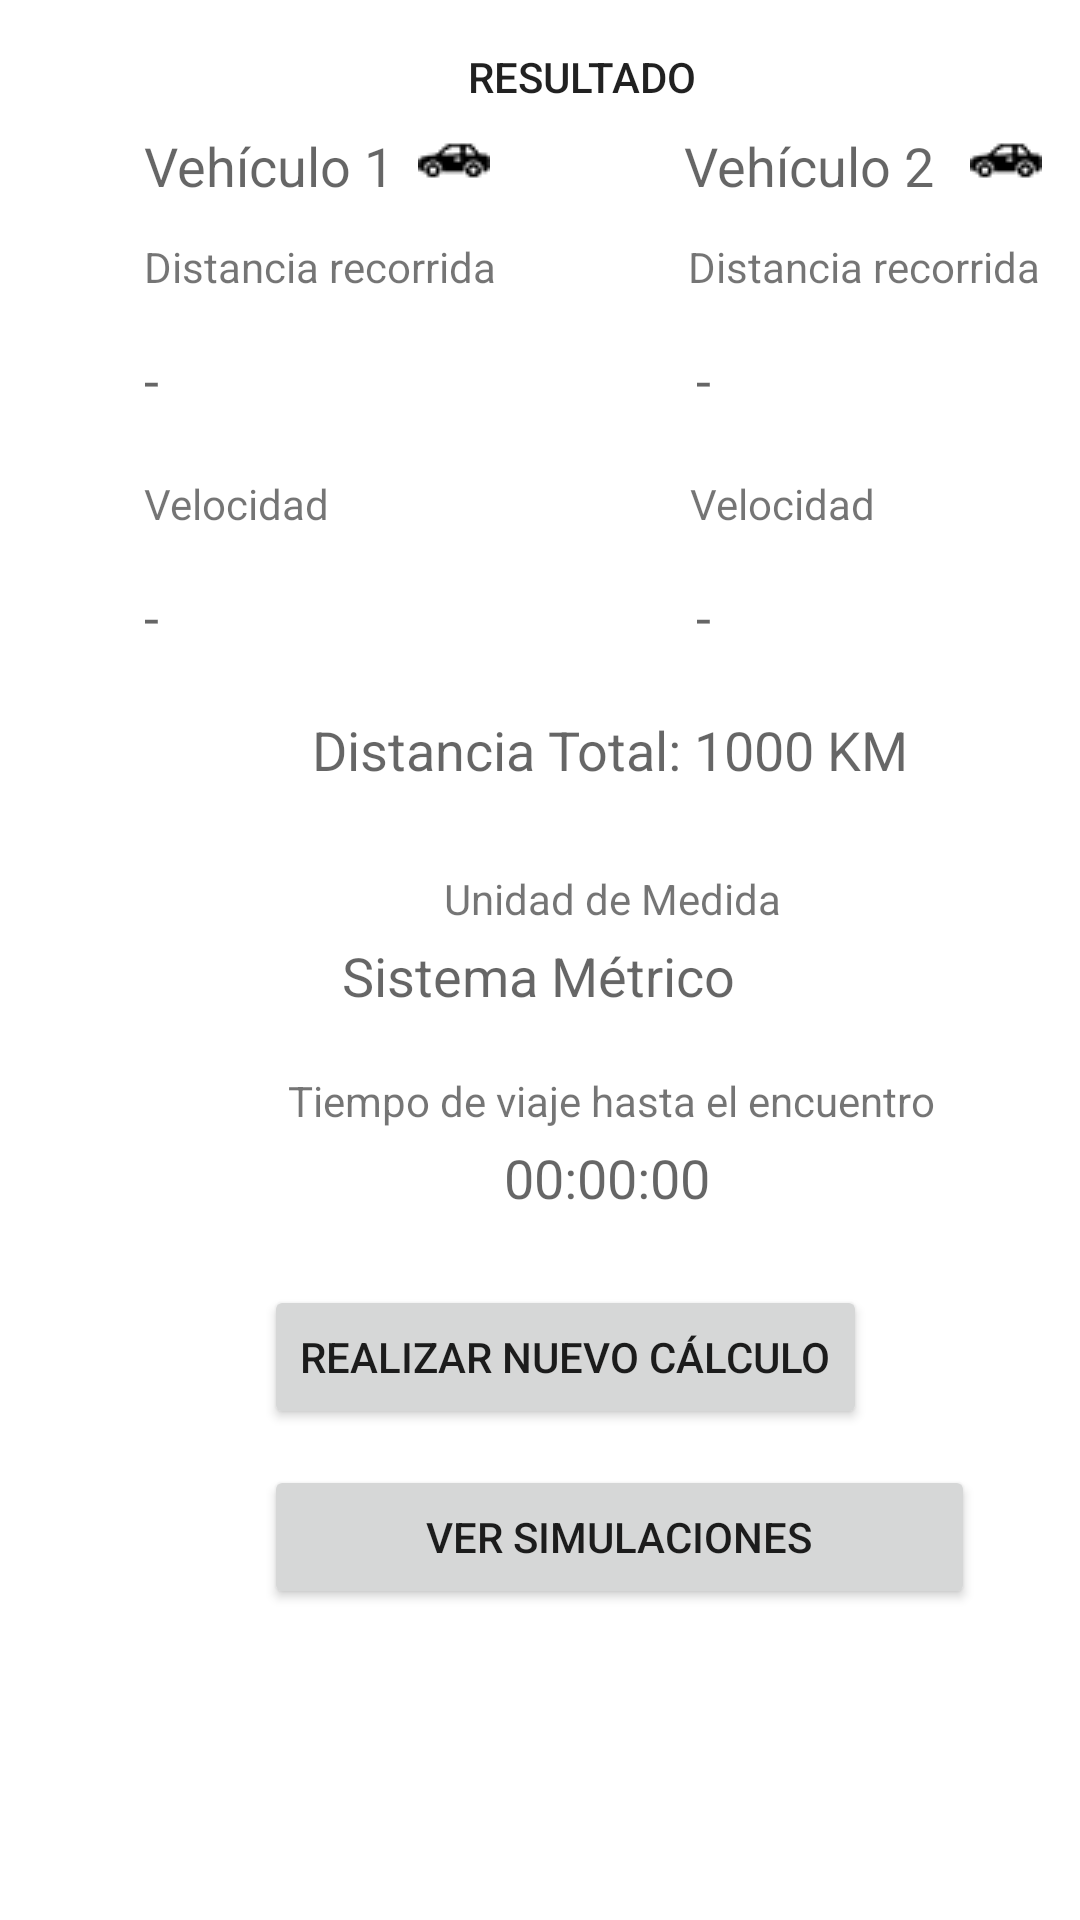

Locate icon controls on the screen. Image size 1080w x 1920h, boxes as (x1, y1, x2, y2).
car: (418, 143, 490, 178), (970, 143, 1042, 178)
